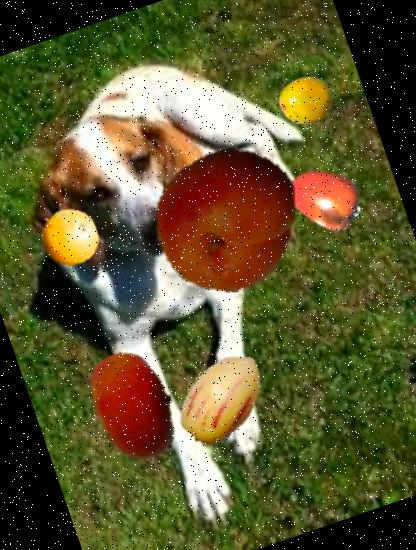Apricot: (134, 128, 318, 312)
Grapefruit: (31, 198, 107, 274)
Kaki: (279, 150, 373, 244)
Maracuja: (273, 66, 342, 134)
Nectarine: (63, 334, 204, 477)
Pepino: (160, 334, 288, 462)
